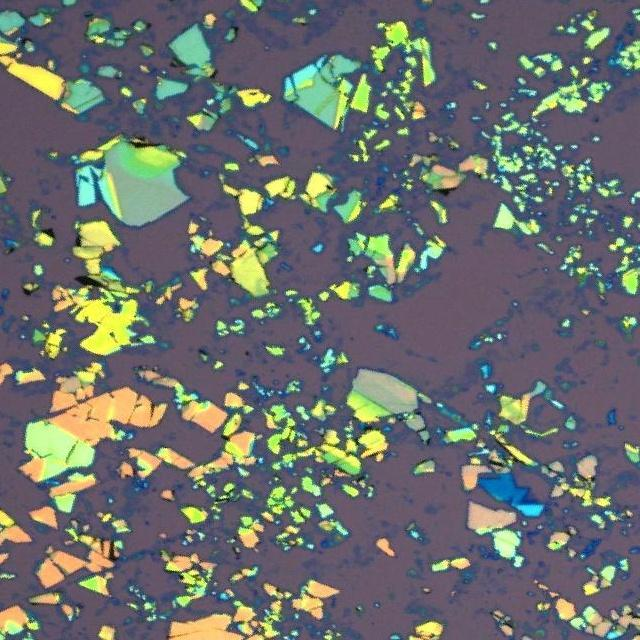monolayer-eWW4: (524, 494, 536, 500)
